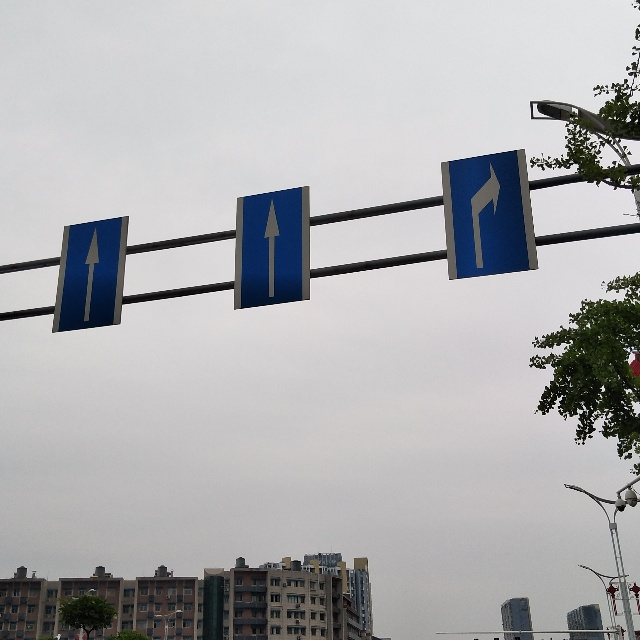right: (445, 161, 529, 276)
straight: (237, 194, 305, 305), (64, 225, 121, 328)
